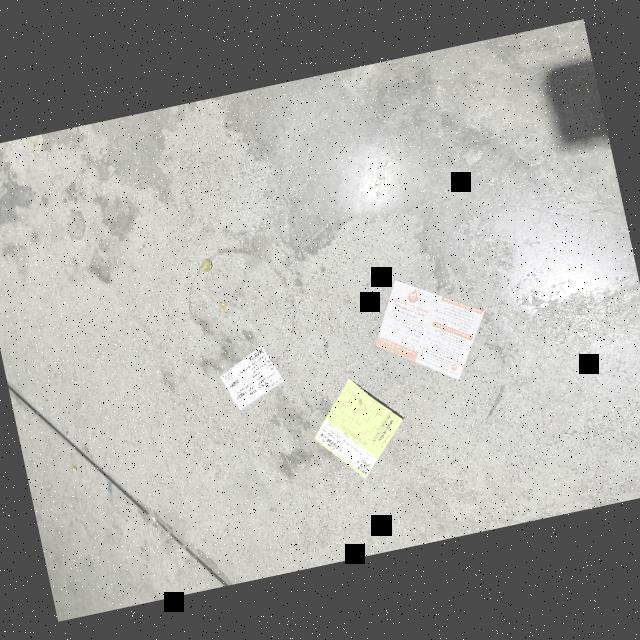scrap_paper: (365, 263, 493, 394), (301, 363, 420, 492), (204, 340, 292, 423)
